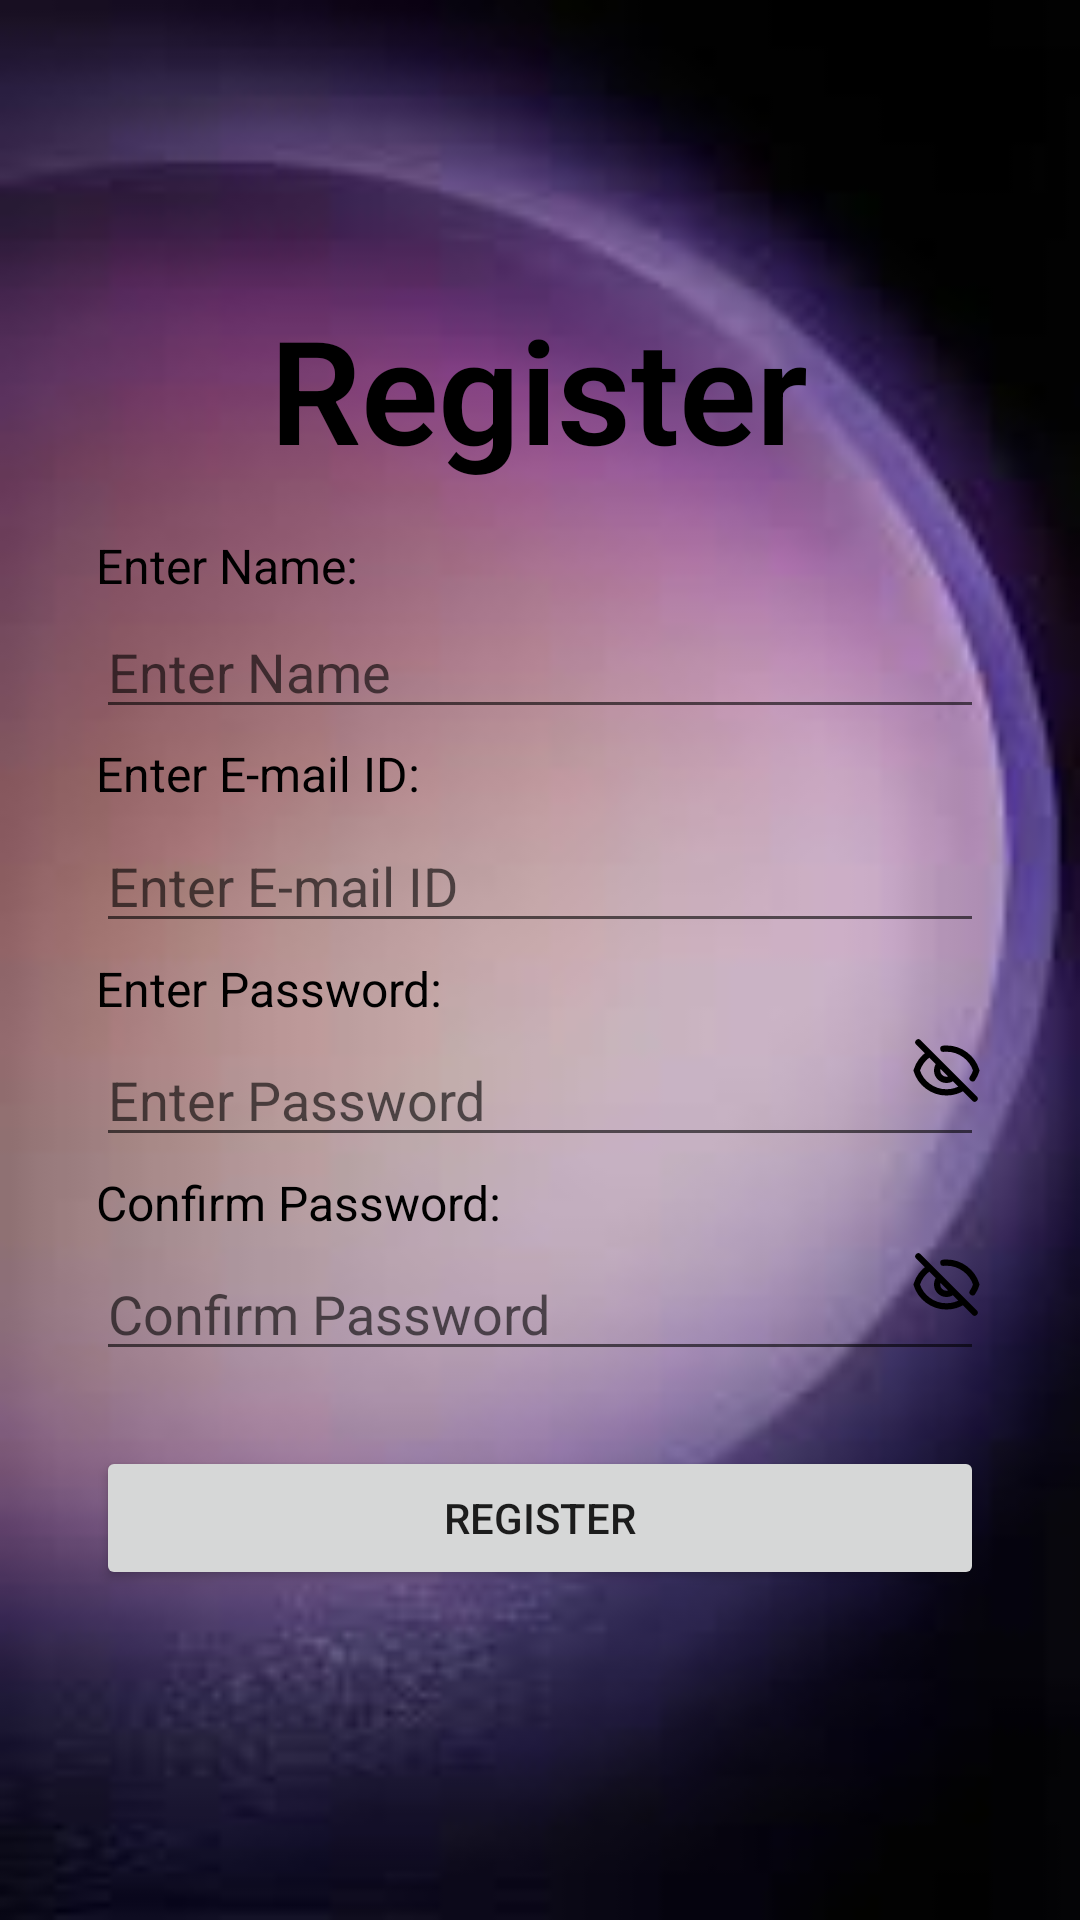

Icons on this 1080×1920 Android screen, each with its box as {"x1": x1, "y1": y1, "x2": x2, "y2": y2}:
Show/Hide Password: {"x1": 913, "y1": 1033, "x2": 984, "y2": 1108}
